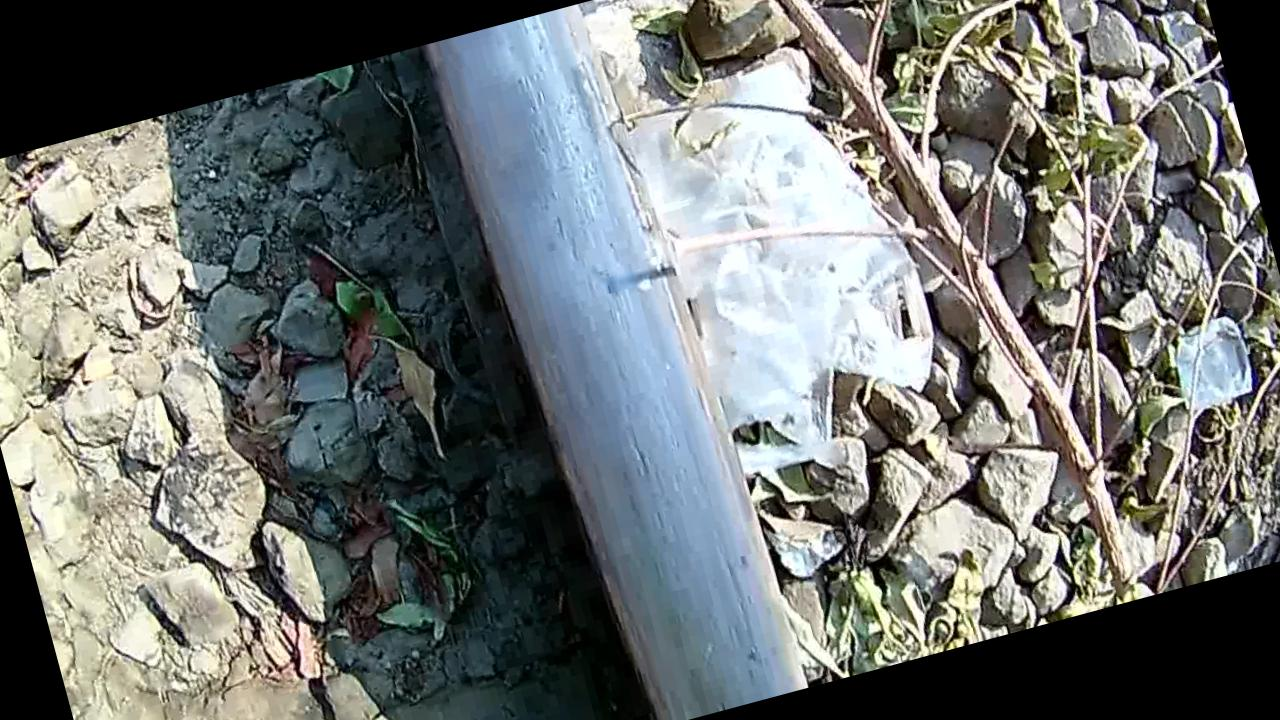bolt_missing: (434, 4, 650, 300)
